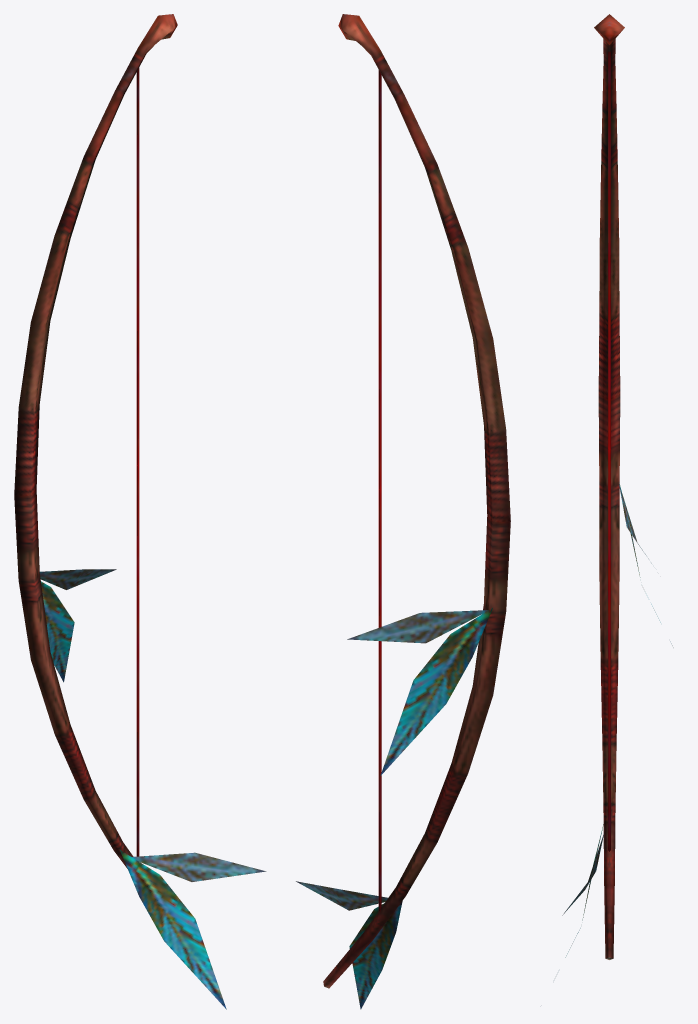
The model's file is Bow08.FBX.
3 views of the same model, side by side, from view 1: azimuth 30°, elevation 25°; view 2: azimuth 150°, elevation 25°; view 3: azimuth 270°, elevation 25° (orthographic). The views are drawn at different scales.
Visible parts, largest first — view 1: Bow08; view 2: Bow08; view 3: Bow08.
Boxes of the visible parts, <box> form: Bow08: <box>14,14,266,1009</box>; Bow08: <box>296,14,510,1009</box>; Bow08: <box>562,14,673,959</box>.
Bounding box in the file's own units: 39.85 × 163 × 21.82.
